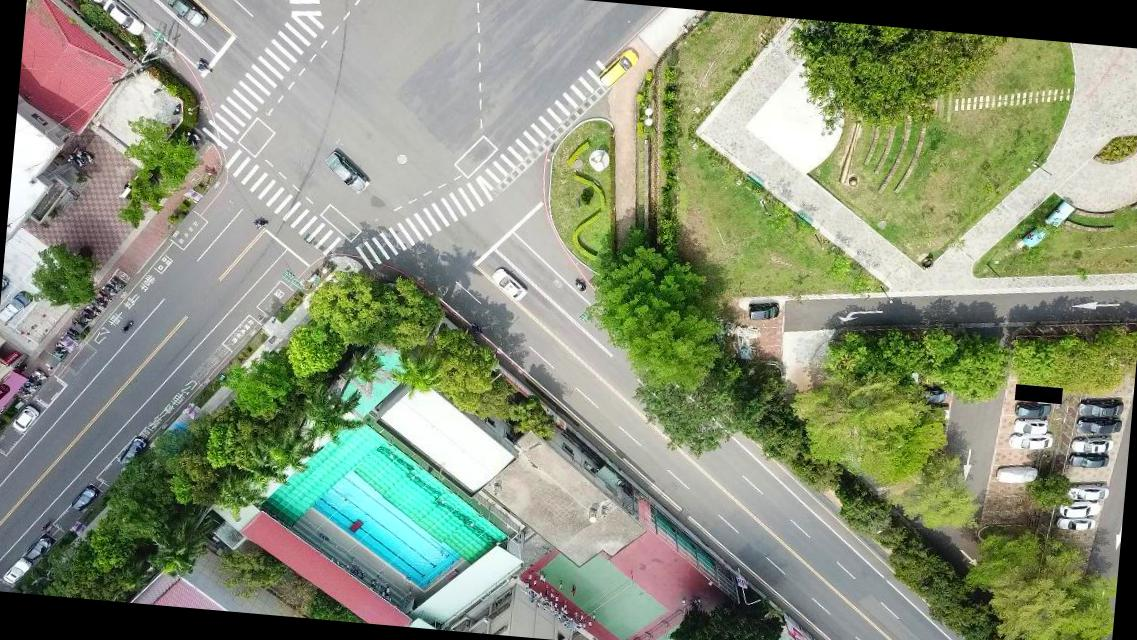vehicle: (322, 152, 370, 196), (597, 46, 639, 92), (100, 0, 147, 39), (162, 0, 209, 30), (0, 287, 32, 330), (490, 268, 529, 301), (1063, 479, 1109, 503), (1070, 433, 1114, 455), (1077, 398, 1124, 418), (1074, 416, 1120, 436), (24, 532, 52, 564), (1058, 499, 1100, 520), (1008, 432, 1052, 452), (1066, 452, 1108, 472), (120, 437, 147, 468), (10, 404, 38, 433), (2, 558, 31, 585), (71, 486, 101, 512), (1054, 516, 1096, 534), (915, 387, 948, 408), (746, 302, 780, 322), (1011, 416, 1048, 434), (1014, 401, 1052, 418)
